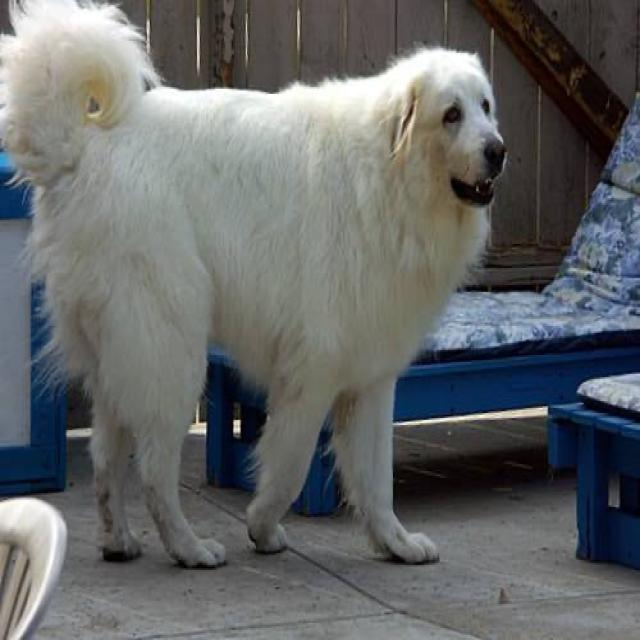dog: (379, 46, 507, 203)
